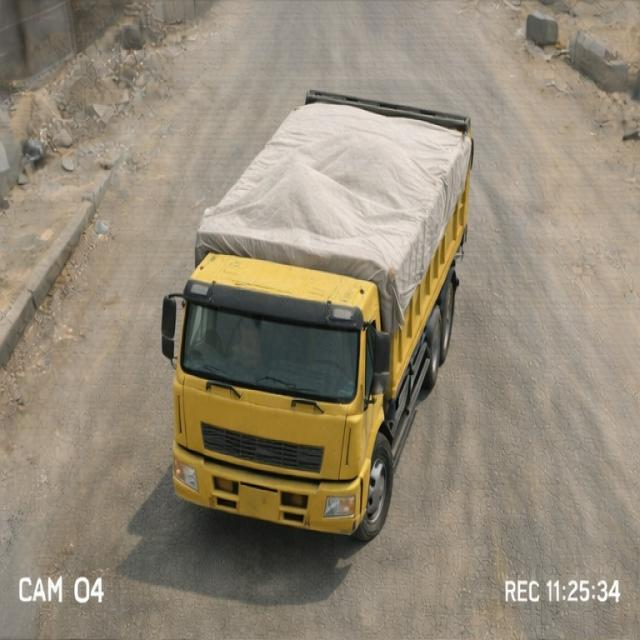Box: (183, 91, 478, 282)
Truck: (158, 66, 519, 538)
